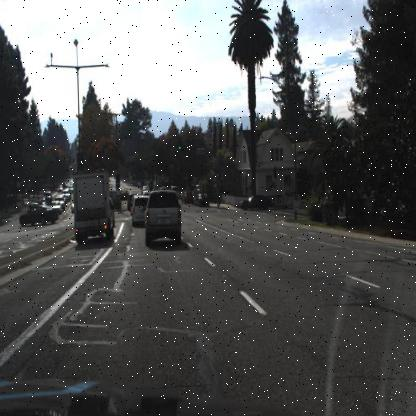car: (144, 189, 182, 248), (16, 204, 58, 230), (130, 194, 150, 230), (238, 193, 271, 212), (198, 193, 209, 208), (42, 189, 52, 204), (50, 199, 62, 211), (184, 192, 196, 204), (49, 201, 61, 212), (170, 184, 180, 195), (141, 190, 152, 198), (142, 184, 151, 192)
trafficLight-Green: (177, 134, 183, 154), (177, 136, 183, 155), (214, 164, 220, 179)
trafficLight-RedLeft: (115, 174, 121, 188)
truck: (71, 168, 113, 242)
